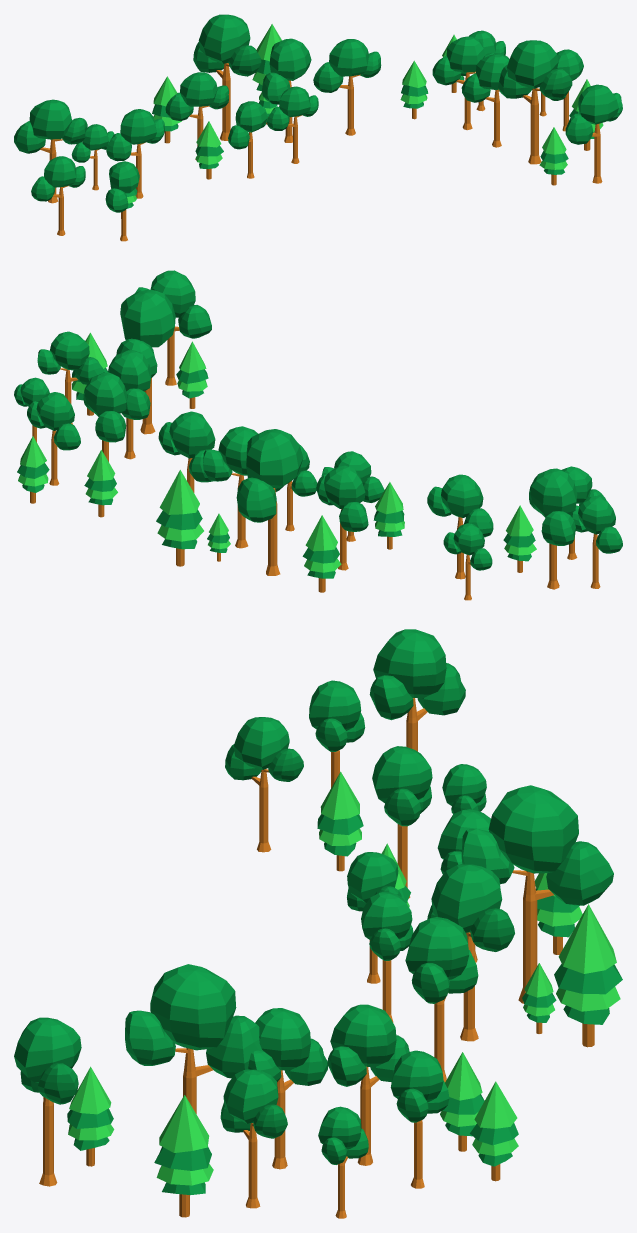
File: treetest.fbx
The picture shows the model from 3 angles, top to bottom: view 1: azimuth 30°, elevation 25°; view 2: azimuth 150°, elevation 25°; view 3: azimuth 270°, elevation 25°; orthographic projection. The views are drawn at different scales.
Visible parts, largest first — view 1: tree001.032; view 2: tree001.032; view 3: tree001.032.
Part boxes in pixels (x1,y1,x2,y2): tree001.032: [14, 14, 622, 241]; tree001.032: [14, 270, 622, 600]; tree001.032: [14, 629, 622, 1218].
Bounding box in the file's own units: 9773 × 2277 × 5731.
